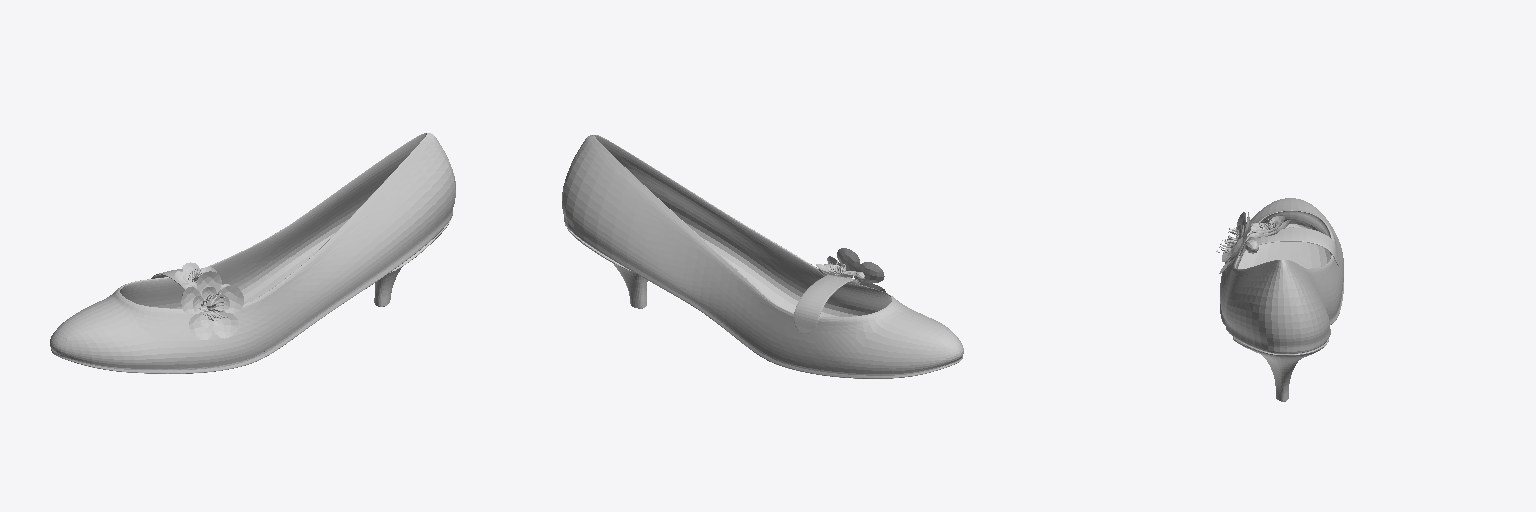
File: shoe.obj
3 renders of one model, left to right at view 1: azimuth 30°, elevation 25°; view 2: azimuth 150°, elevation 25°; view 3: azimuth 270°, elevation 25°, orthographic.
Visible parts, largest first — view 1: shoe; view 2: shoe; view 3: shoe.
Part boxes in pixels (x1,y1,x2,y2): shoe: (50,133,455,373); shoe: (562,135,963,378); shoe: (1216,198,1343,401).
Bounding box in the file's own units: 0.6371 × 0.2461 × 0.1783.